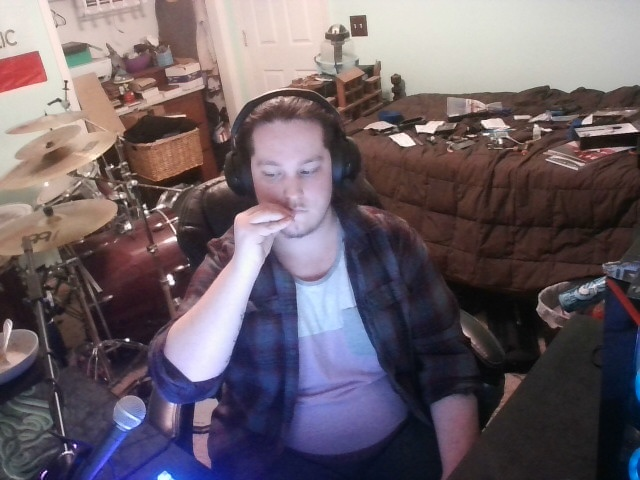eat: (223, 197, 307, 266)
